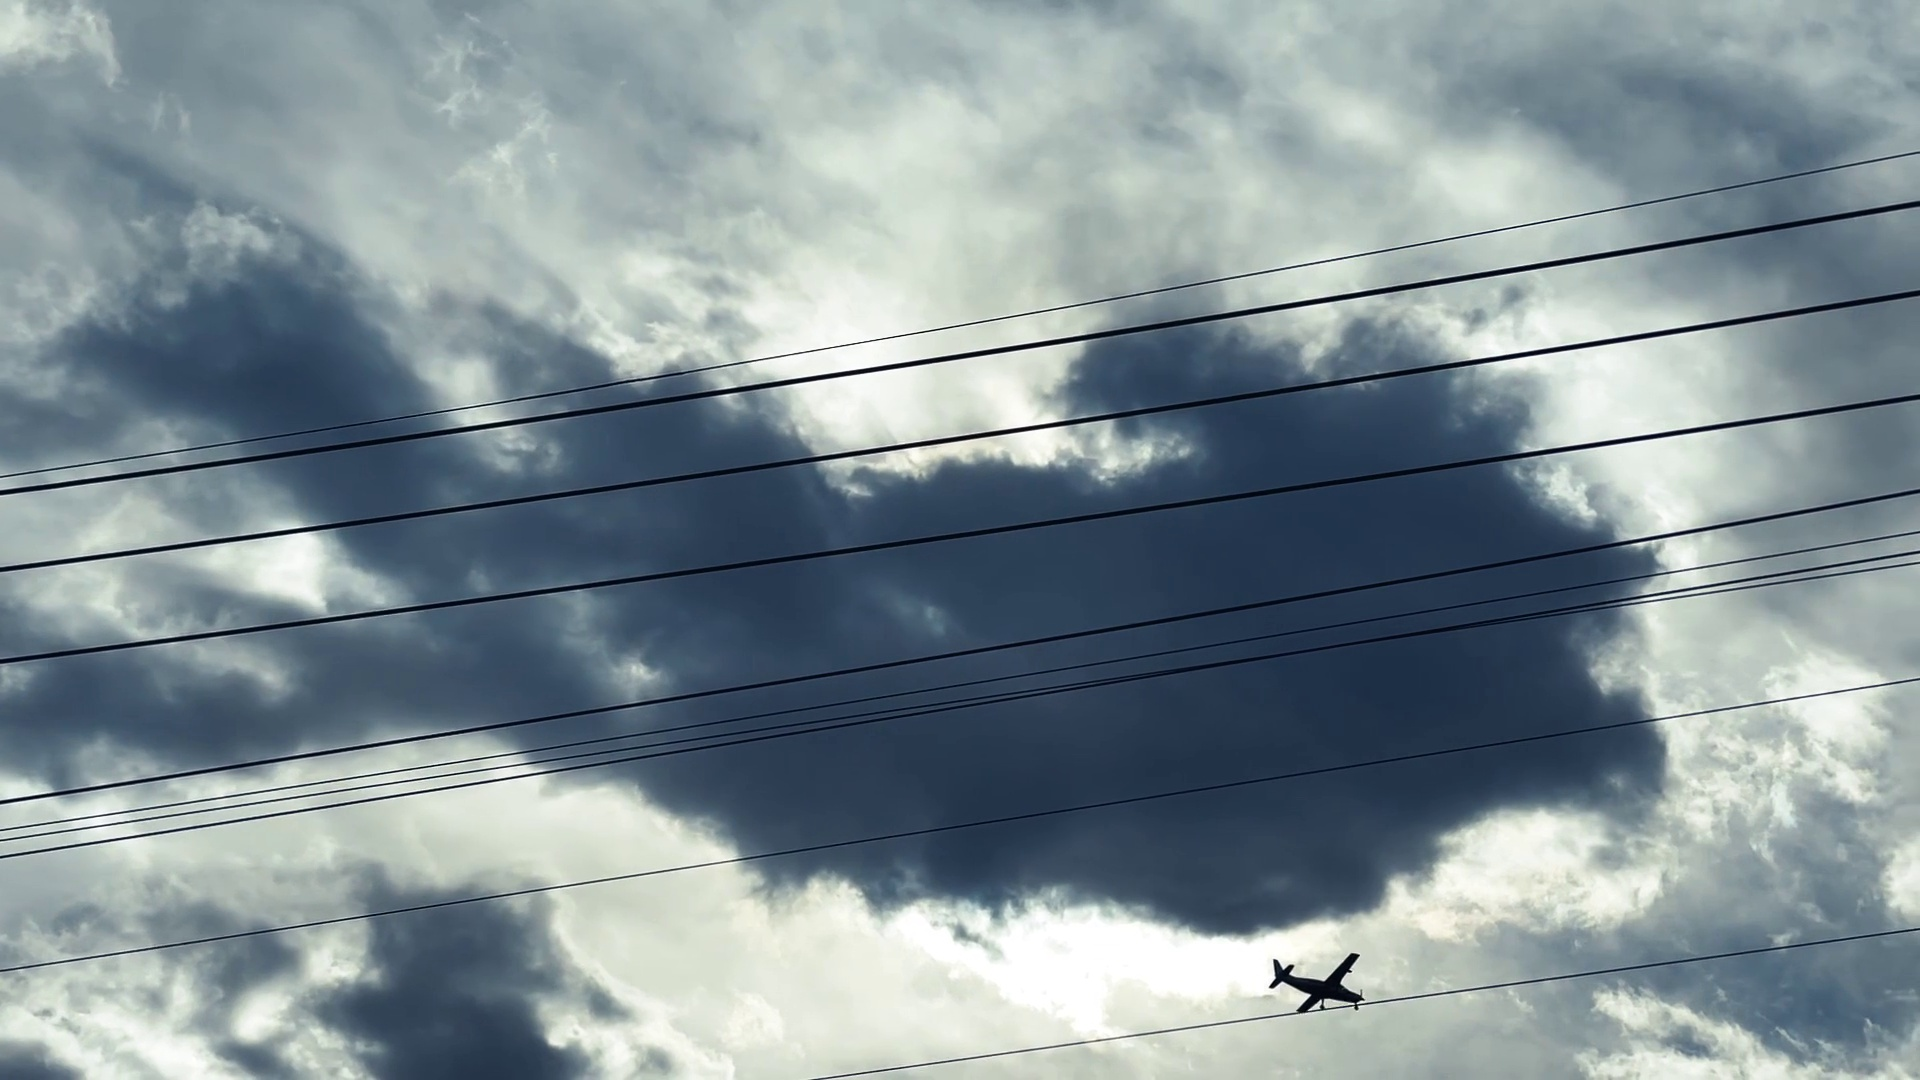plane: (1269, 949, 1364, 1014)
